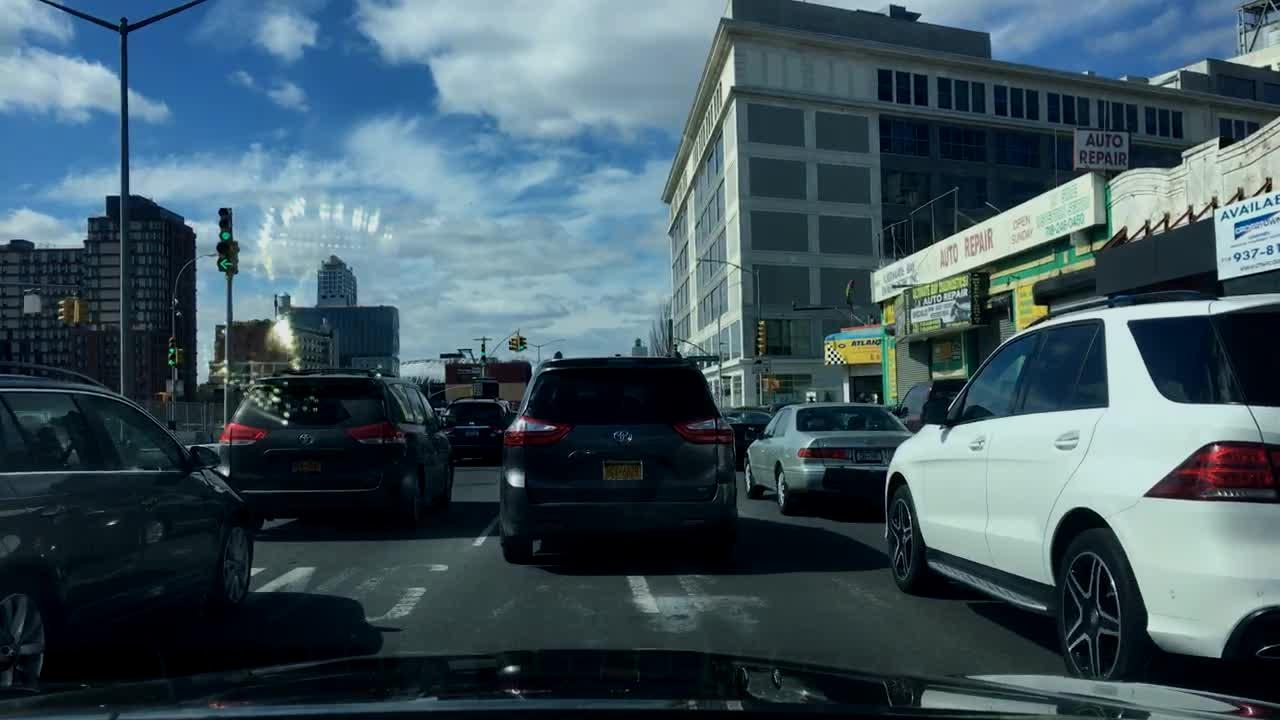Toyota: (608, 424, 638, 450), (294, 429, 318, 449)
